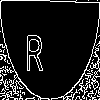R: (25, 25, 43, 72)
